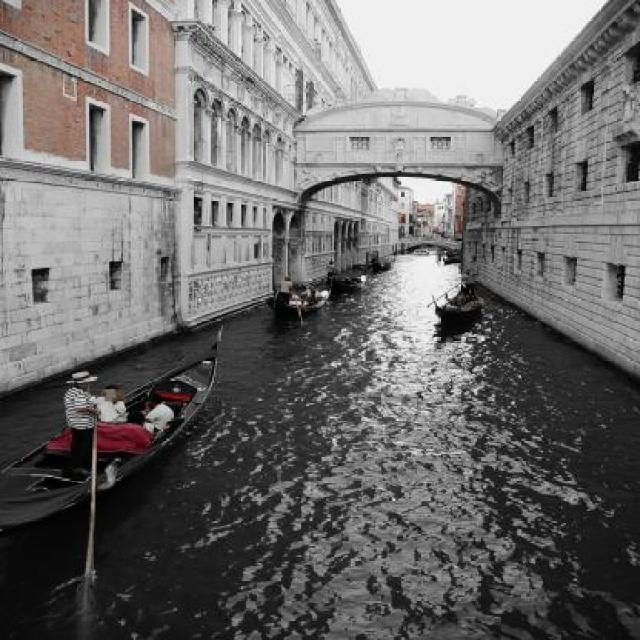ship: (0, 340, 222, 531), (269, 278, 333, 317), (432, 284, 477, 322), (322, 270, 371, 292), (361, 256, 396, 272)
